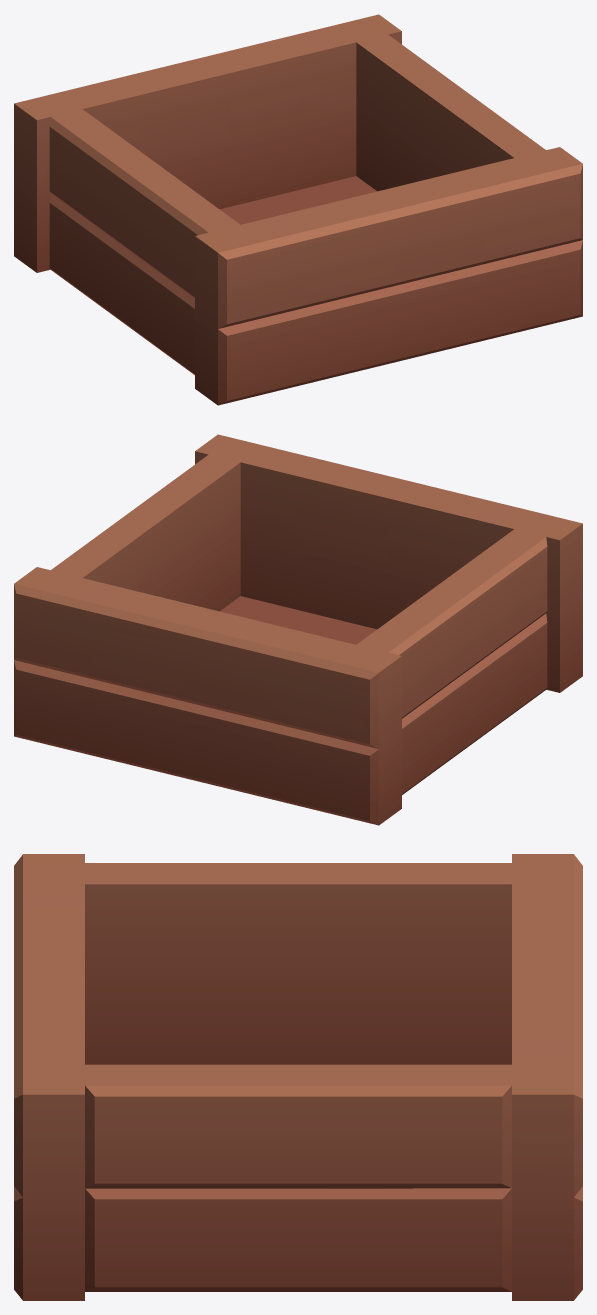
File: market-crate.glb
3 views of the same model, one above another, from view 1: azimuth 30°, elevation 25°; view 2: azimuth 150°, elevation 25°; view 3: azimuth 270°, elevation 25° (orthographic). The views are drawn at different scales.
Visible parts, largest first — view 1: crate; view 2: crate; view 3: crate.
Part boxes in pixels (bbox=[...]): crate: bbox=[14, 14, 582, 405]; crate: bbox=[14, 434, 582, 825]; crate: bbox=[14, 854, 582, 1300].
Size of the model in its own units: 65534 by 26210 by 65534.
Materials: 1 (1 with a texture image).
